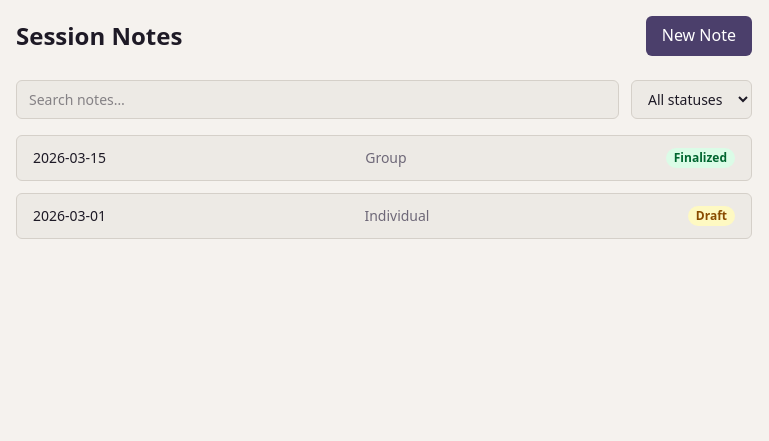
it: Session history page › expanding a note row reveals SOAP fields
Click the text "2026-03-01". click: x=70, y=216
box: [33, 206, 106, 226]
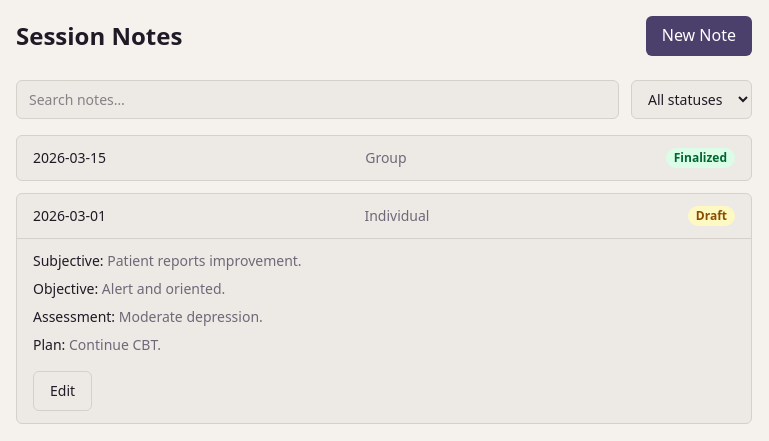
Expected: the text "Patient reports improvement." is shown, [107, 251, 302, 270]
